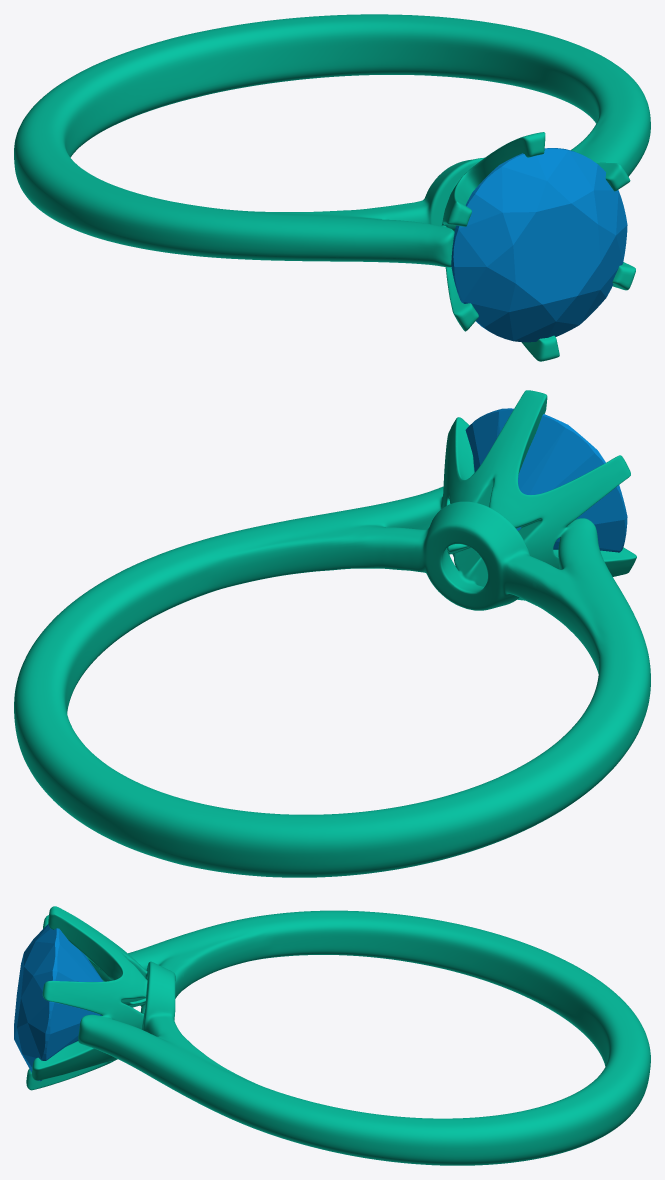
3 renders of one model, top to bottom at view 1: azimuth 30°, elevation 25°; view 2: azimuth 150°, elevation 25°; view 3: azimuth 270°, elevation 25°, orthographic. The views are drawn at different scales.
Visible parts, largest first — view 1: 1E.3dm, Diamond_Round; view 2: 1E.3dm, Diamond_Round; view 3: 1E.3dm, Diamond_Round.
Boxes of the visible parts, bbox=[...] form: 1E.3dm: bbox=[14, 14, 650, 361]; Diamond_Round: bbox=[451, 148, 627, 342]; 1E.3dm: bbox=[14, 390, 650, 877]; Diamond_Round: bbox=[465, 408, 627, 552]; 1E.3dm: bbox=[26, 906, 650, 1165]; Diamond_Round: bbox=[14, 924, 103, 1081].
Bounding box in the file's own units: 2.48 × 0.9208 × 3.
